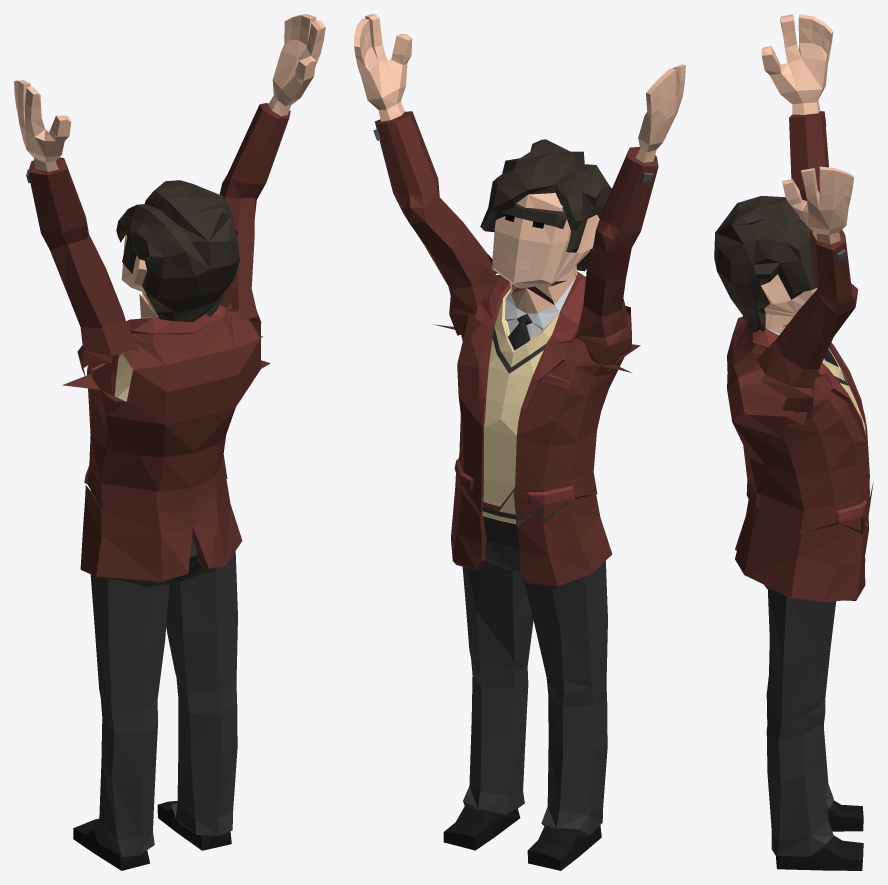
The model's file is Demon_SchoolBoy_01_cheer.obj.
3 views of the same model, side by side, from view 1: azimuth 30°, elevation 25°; view 2: azimuth 150°, elevation 25°; view 3: azimuth 270°, elevation 25° (orthographic). The views are drawn at different scales.
Visible parts, largest first — view 1: Demon_SchoolBoy_01_cheer; view 2: Demon_SchoolBoy_01_cheer; view 3: Demon_SchoolBoy_01_cheer.
Boxes of the visible parts, x1,y1,x2,y2 form: Demon_SchoolBoy_01_cheer: (14,14,325,870); Demon_SchoolBoy_01_cheer: (354,14,685,870); Demon_SchoolBoy_01_cheer: (714,14,873,870).
Bounding box in the file's own units: 0.873 × 2.18 × 0.4129.
Materials: 1 (1 with a texture image).
